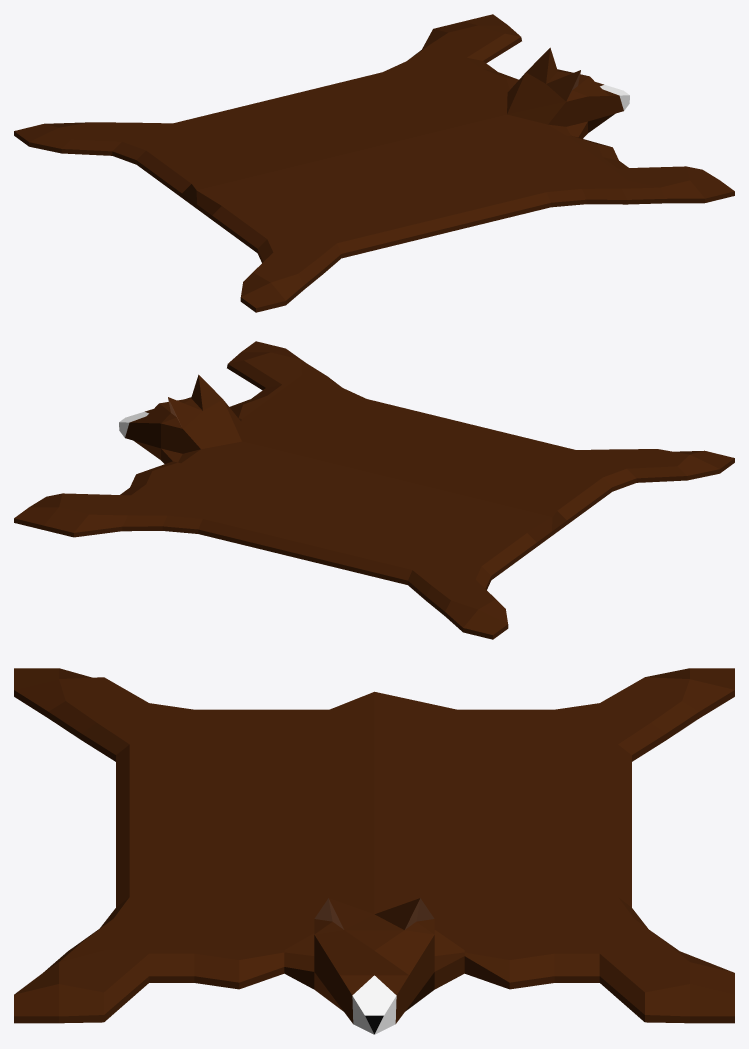
Rendered from skinbear01.obj.
3 views of the same model, one above another, from view 1: azimuth 30°, elevation 25°; view 2: azimuth 150°, elevation 25°; view 3: azimuth 270°, elevation 25° (orthographic). The views are drawn at different scales.
Visible parts, largest first — view 1: Cube.001_Cube.010; view 2: Cube.001_Cube.010; view 3: Cube.001_Cube.010.
Boxes of the visible parts, bbox=[...] form: Cube.001_Cube.010: bbox=[14, 14, 734, 312]; Cube.001_Cube.010: bbox=[14, 341, 734, 639]; Cube.001_Cube.010: bbox=[14, 668, 734, 1034].
Bounding box in the file's own units: 1.94 × 0.2268 × 1.64.
